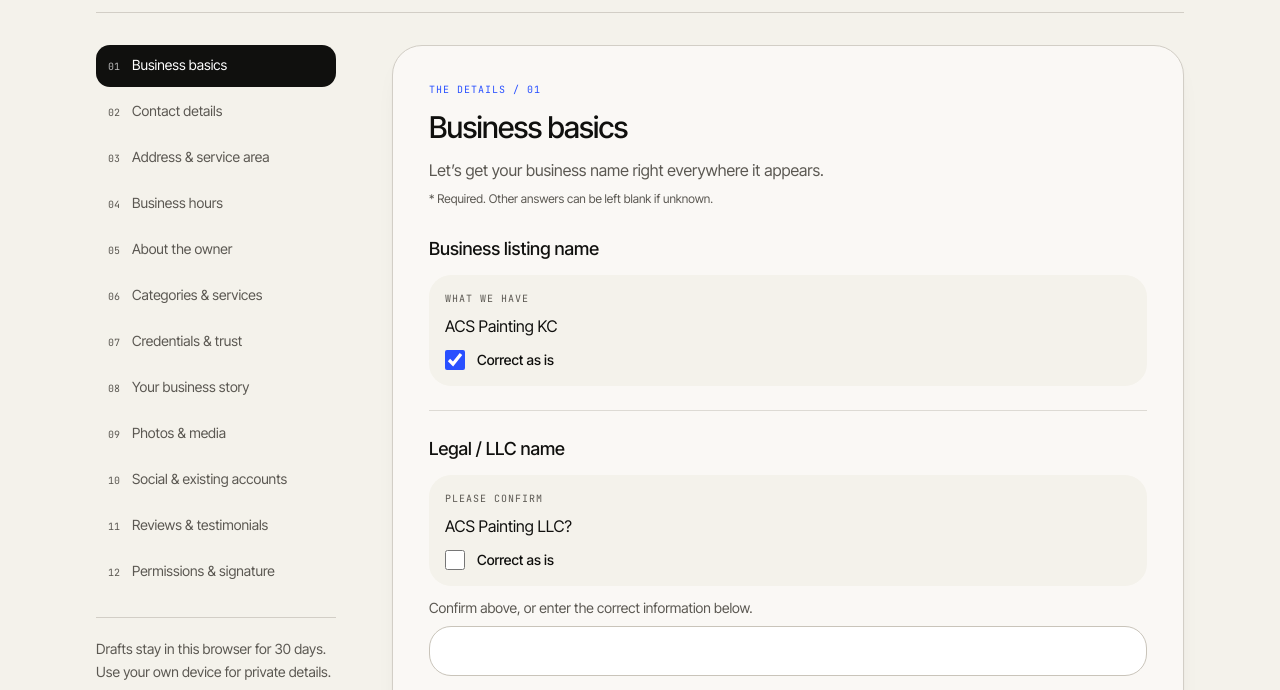
it: intake browser draft and response handling › opens a correction input when a prefilled value is unchecked
Later steps or results of the test are not shown.
(page scrolled)
What coordinates should you click on to do the following:
click the checkbox named "Business listing name: correct as is"
I would click on:
 (455, 360)
Its box is 445,350 -> 465,370.
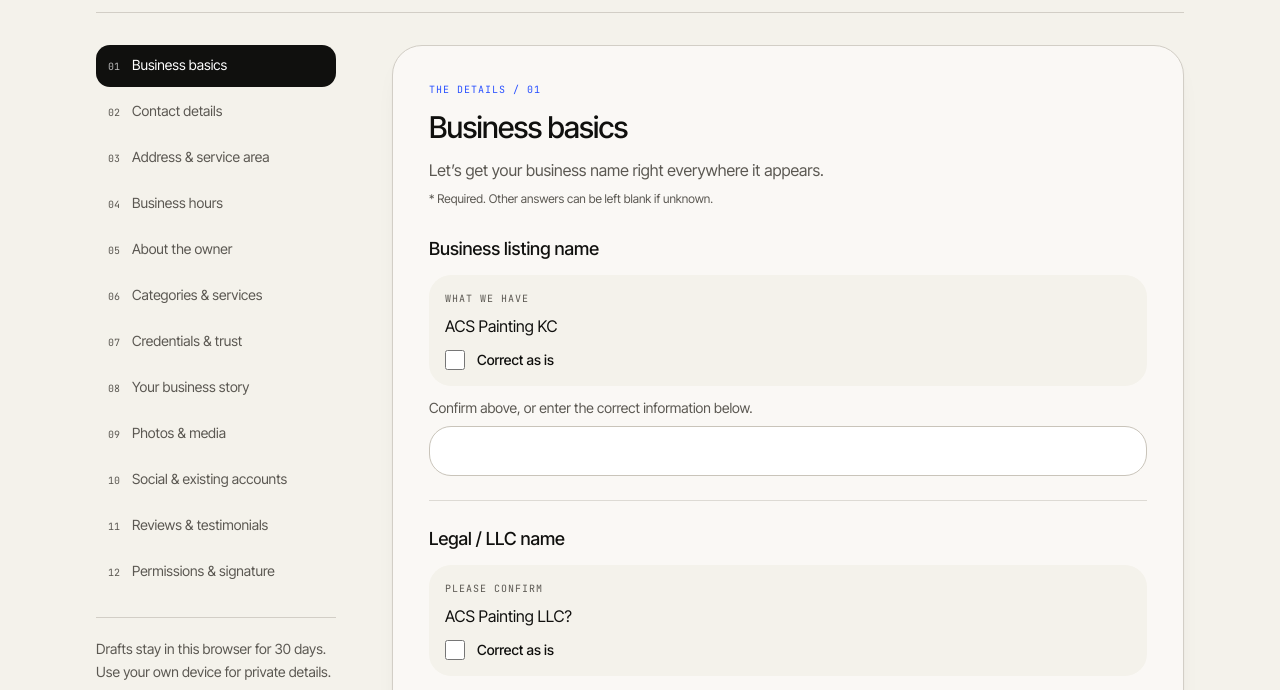
Result: the field labelled "Business listing name" is empty at 429,426 -> 1147,476
